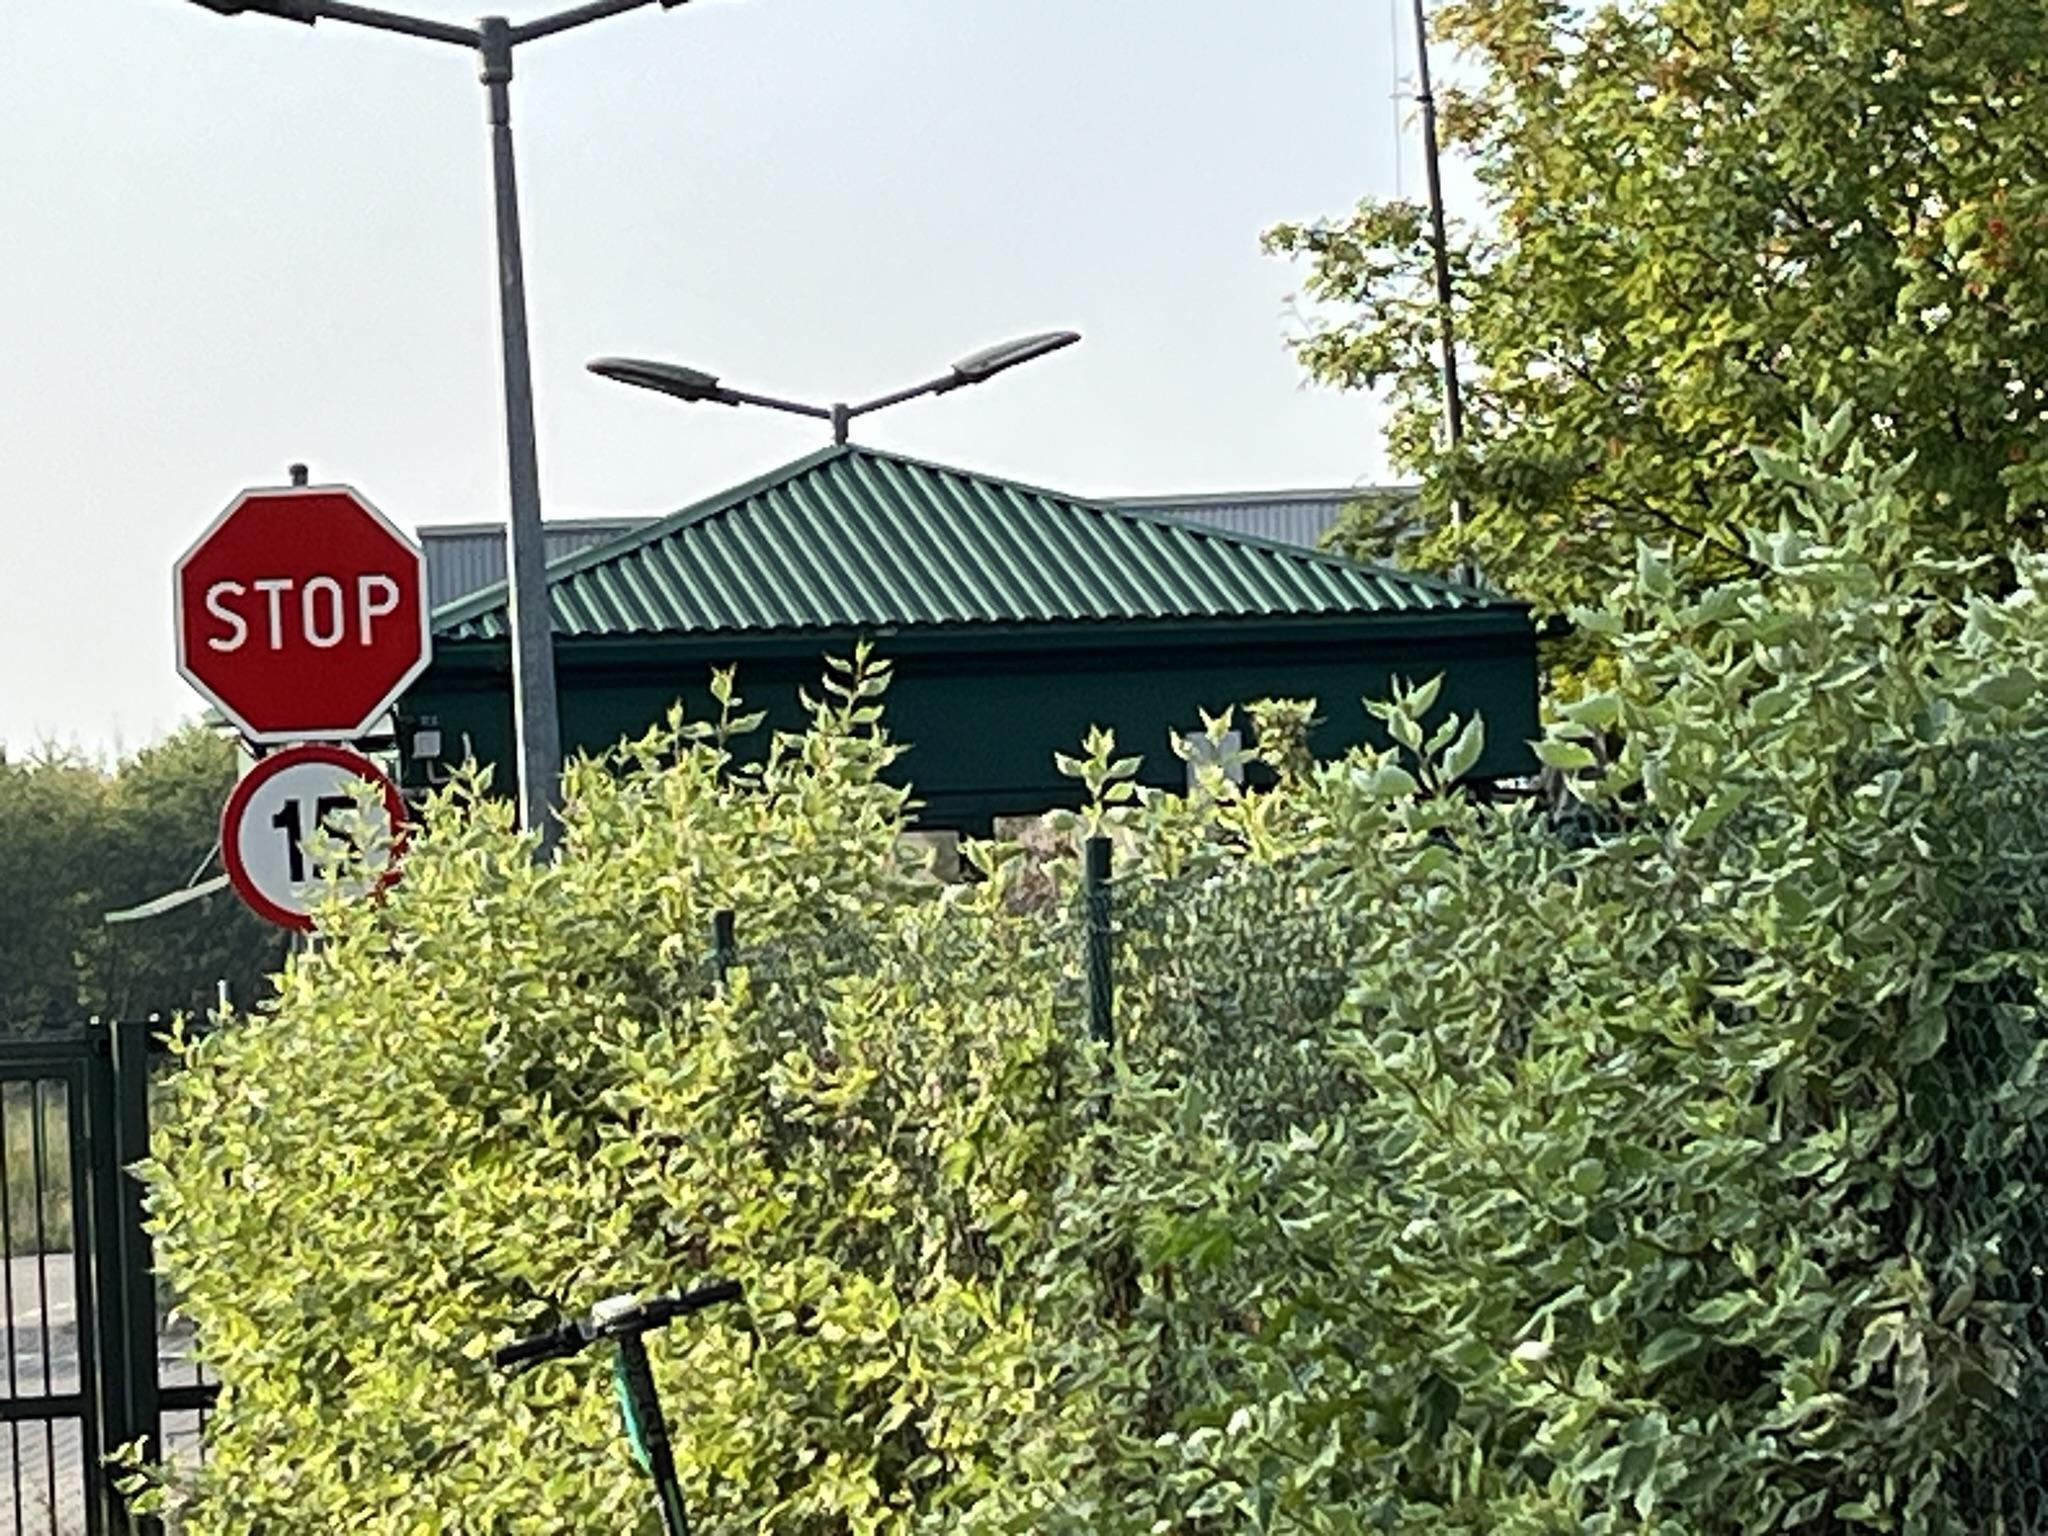prohibitory: (173, 482, 432, 741), (223, 745, 408, 929)
